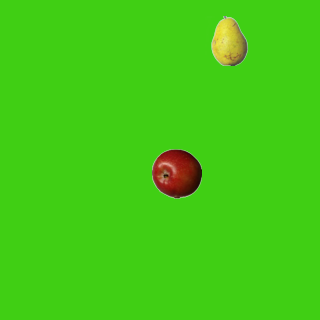Apple Braeburn: (151, 148, 201, 198)
Pear Monster: (204, 15, 254, 65)
